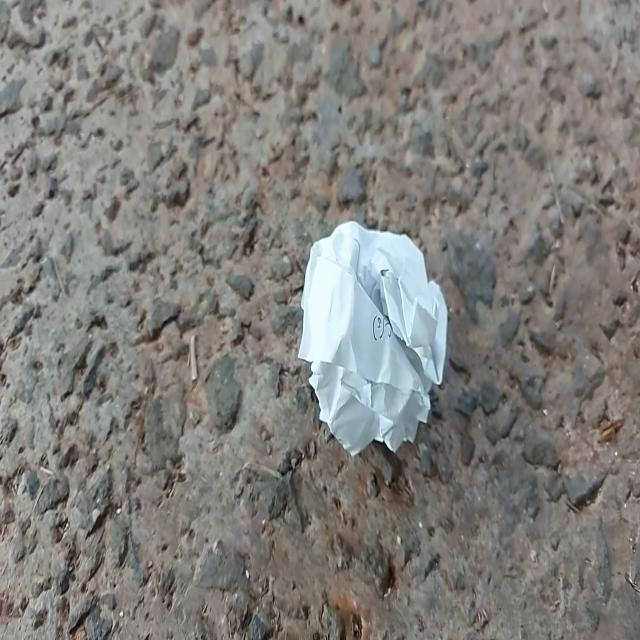Paper: (293, 207, 462, 454)
